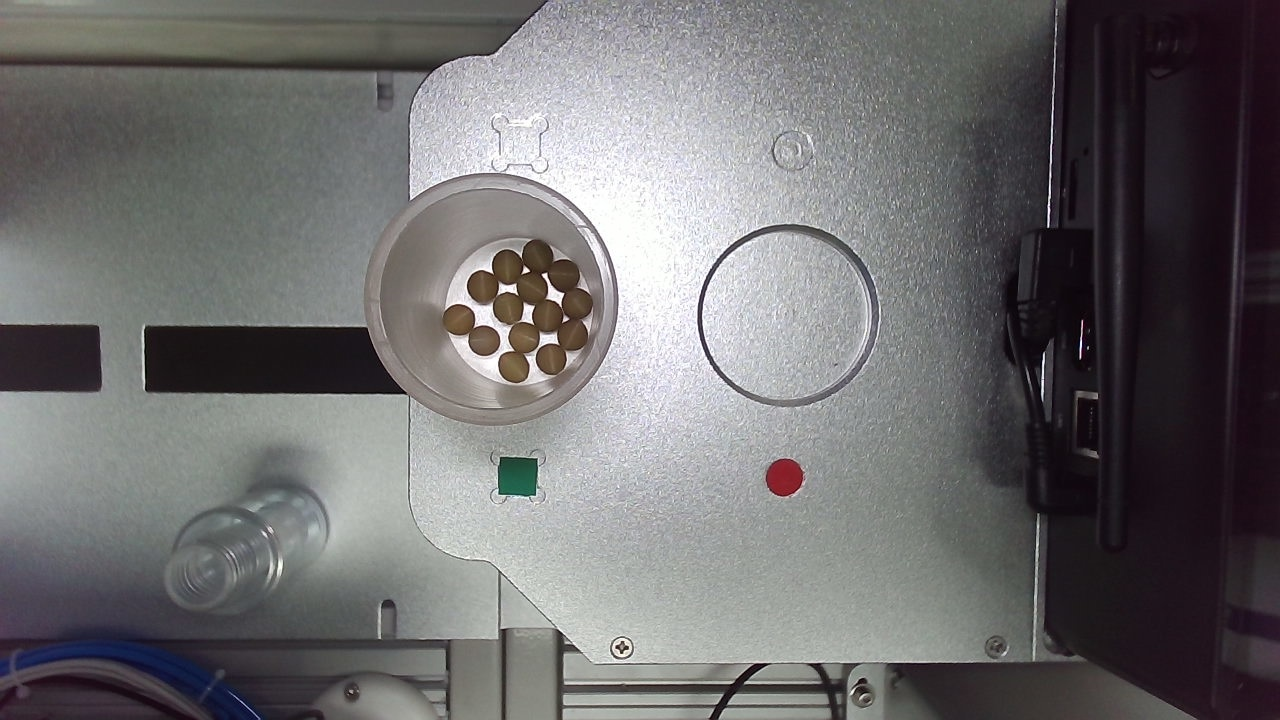XLabel: (658, 299, 689, 331)
YLabel: (437, 304, 472, 339)
none: (594, 369, 762, 532)
transparenexcept: (281, 372, 534, 589)
